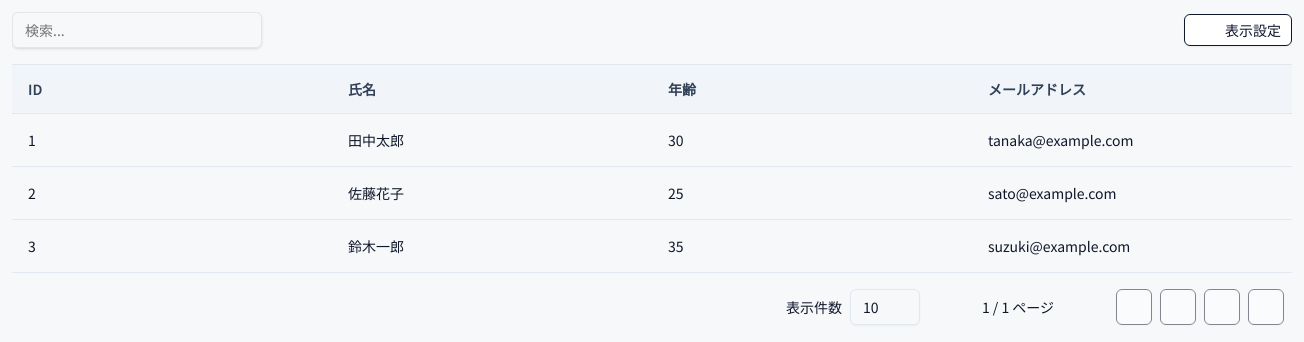
Test: DataTable › グローバルフィルターが機能する
This screenshot has width=1304, height=342.
Type "田中" into the field with placeholder "検索..." at [137, 30], box [12,12,262,48]
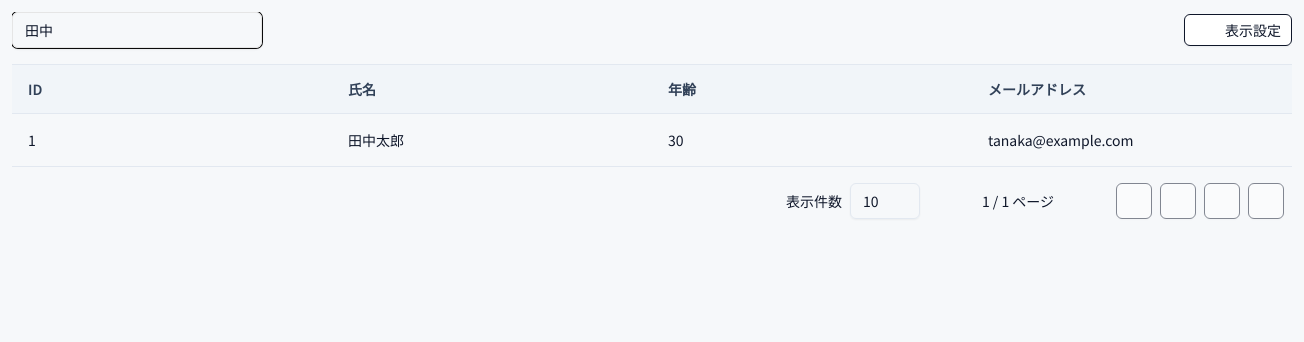
expect the text "田中太郎" is shown: met, box [332,113,652,166]
expect the text "佐藤花子" is gone: met
expect the text "鈴木一郎" is gone: met
